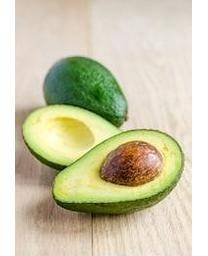avocado: (51, 128, 186, 216), (21, 103, 131, 175), (43, 55, 128, 132)
